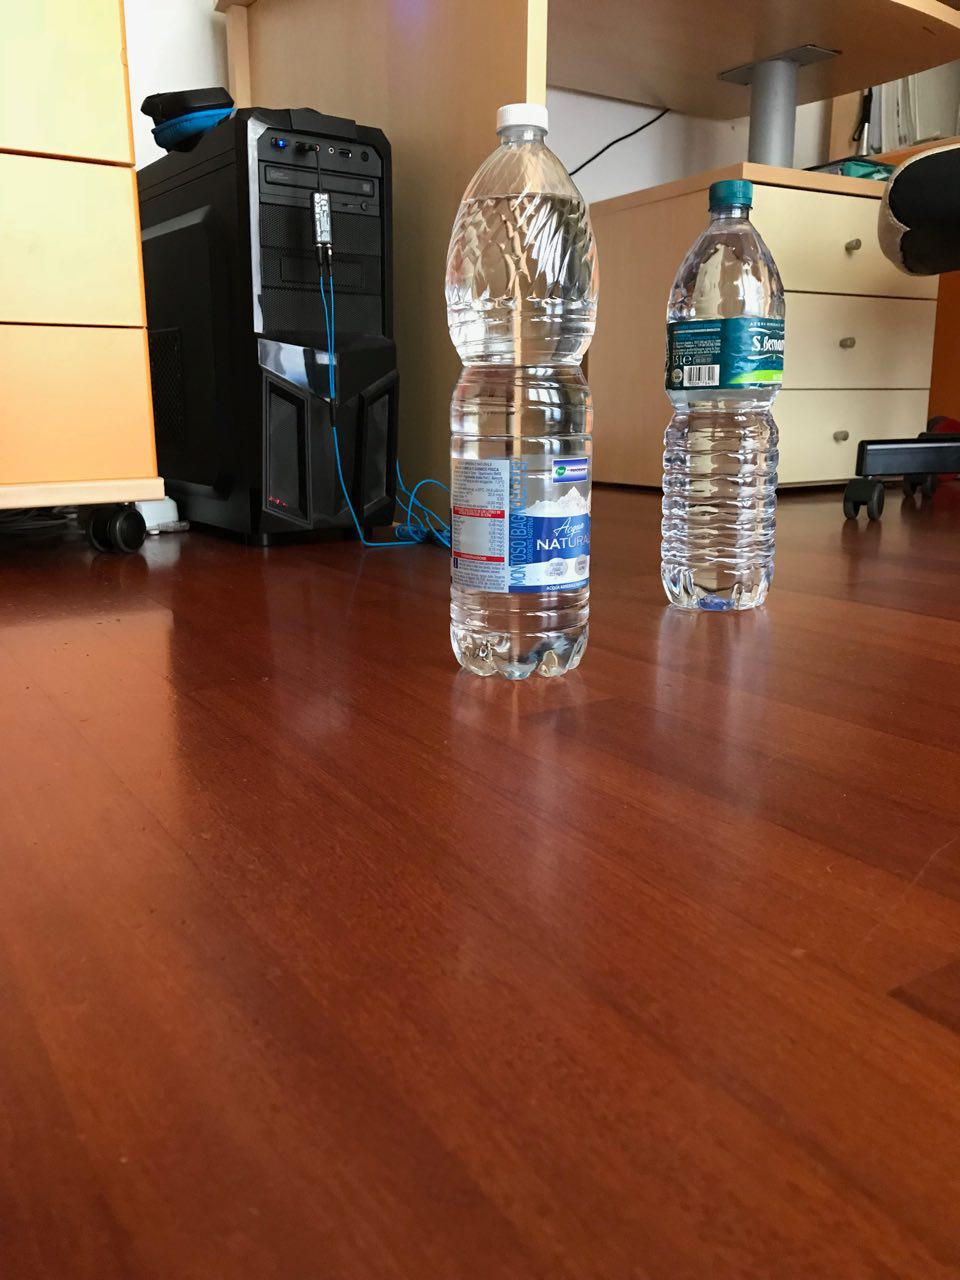san_bernardo: (658, 178, 787, 612)
